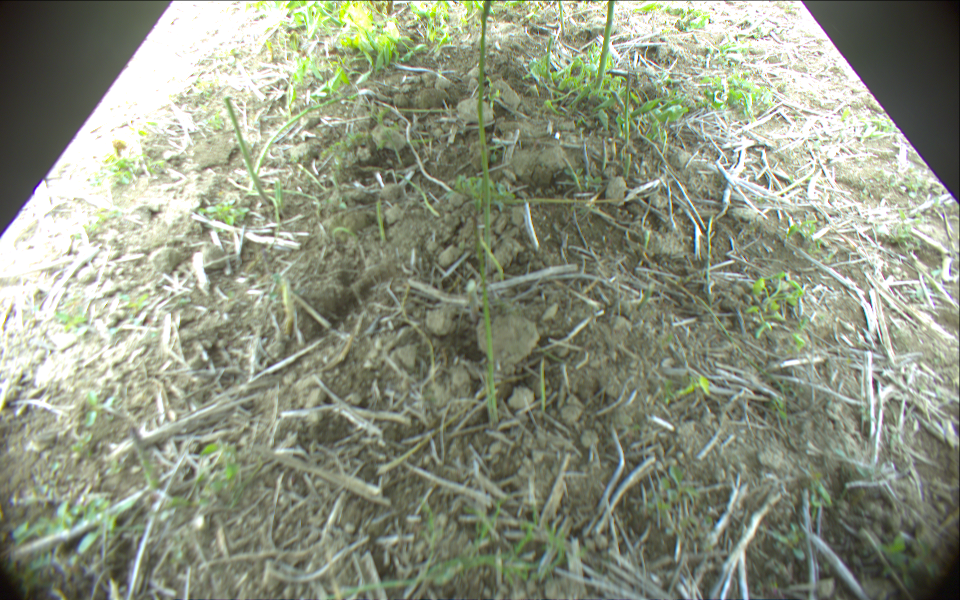aspa: (249, 93, 358, 192), (471, 209, 497, 424), (226, 98, 268, 200), (476, 1, 492, 266), (590, 1, 616, 91), (130, 426, 160, 489), (621, 67, 633, 145), (377, 204, 385, 233)
